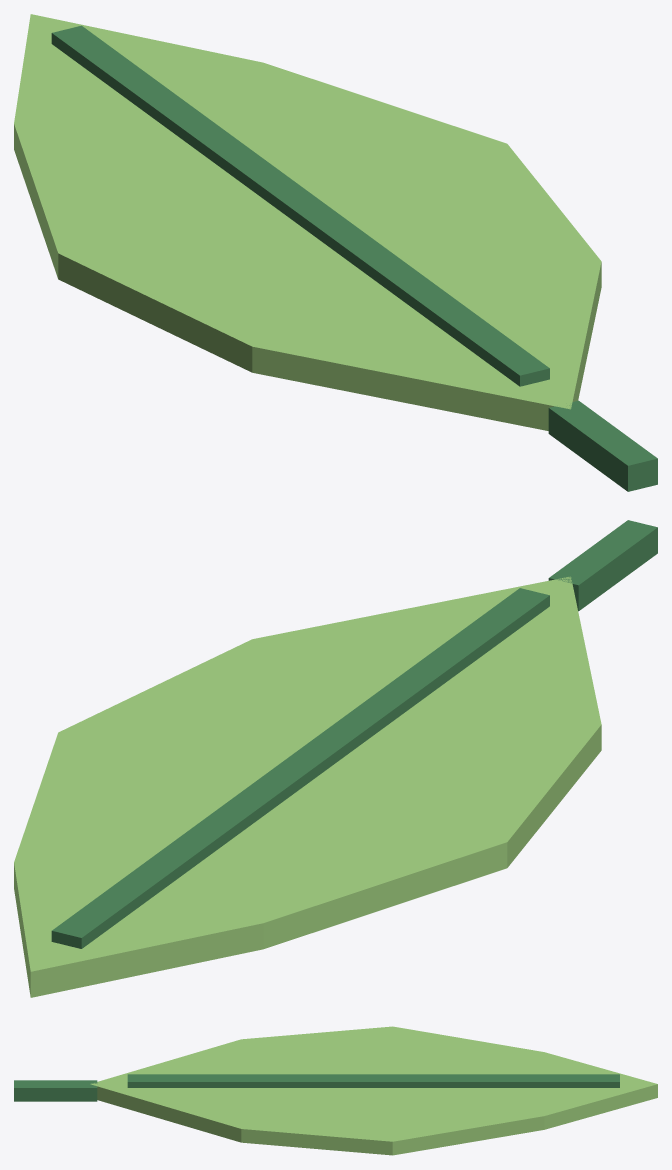
Rendered from deco_leaf_green.obj.
The picture shows the model from 3 angles, top to bottom: view 1: azimuth 30°, elevation 25°; view 2: azimuth 150°, elevation 25°; view 3: azimuth 270°, elevation 25°; orthographic projection. The views are drawn at different scales.
Visible parts, largest first — view 1: deco_leaf_green; view 2: deco_leaf_green; view 3: deco_leaf_green.
Boxes of the visible parts, x1=… form: deco_leaf_green: x1=14, y1=14, x2=657, y2=491; deco_leaf_green: x1=14, y1=520, x2=657, y2=997; deco_leaf_green: x1=14, y1=1026, x2=657, y2=1155.
Bounding box in the file's own units: 0.036 × 0.00285 × 0.085.
Materials: 1 (1 with a texture image).
